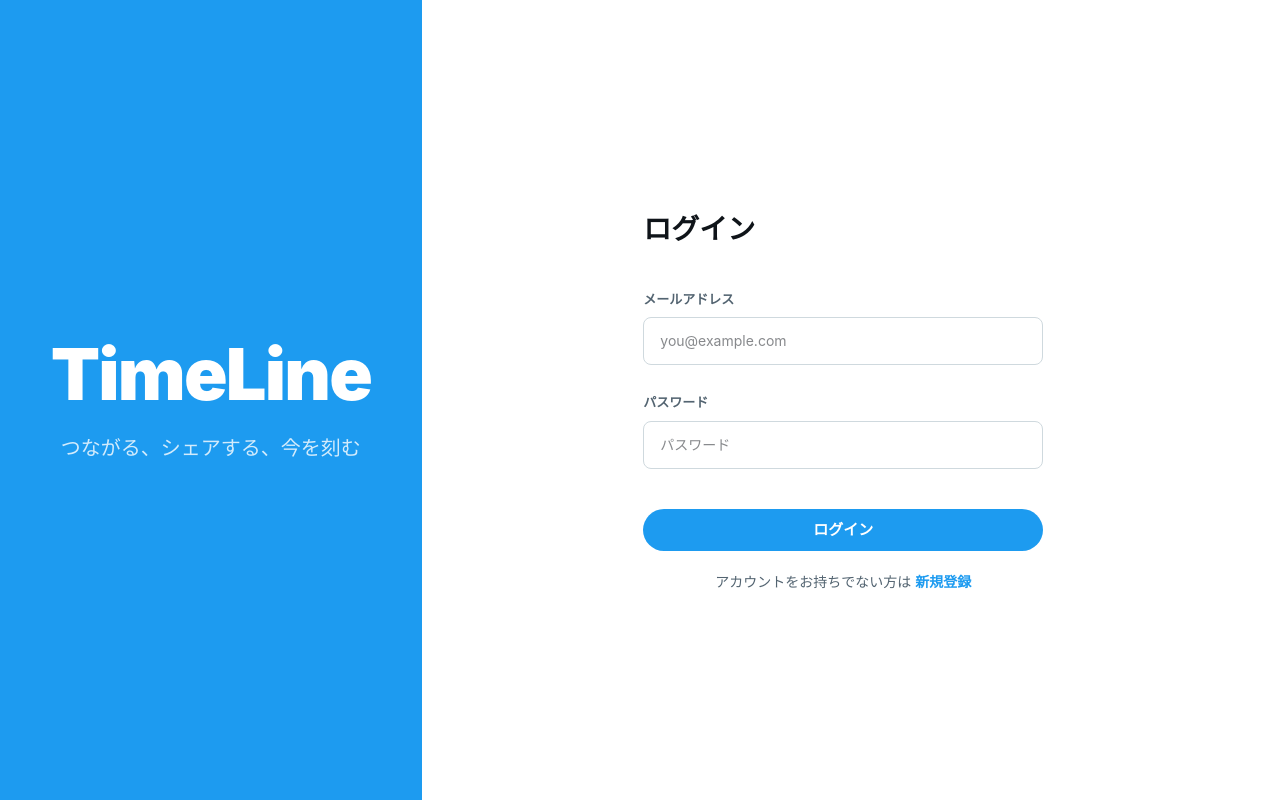
LoginPage › 401エラー時に認証エラーメッセージが表示される
The image size is (1280, 800).
Step 1. Type "alice@example.com" into the field labelled "メールアドレス" → (843, 341), box [643, 317, 1043, 365]
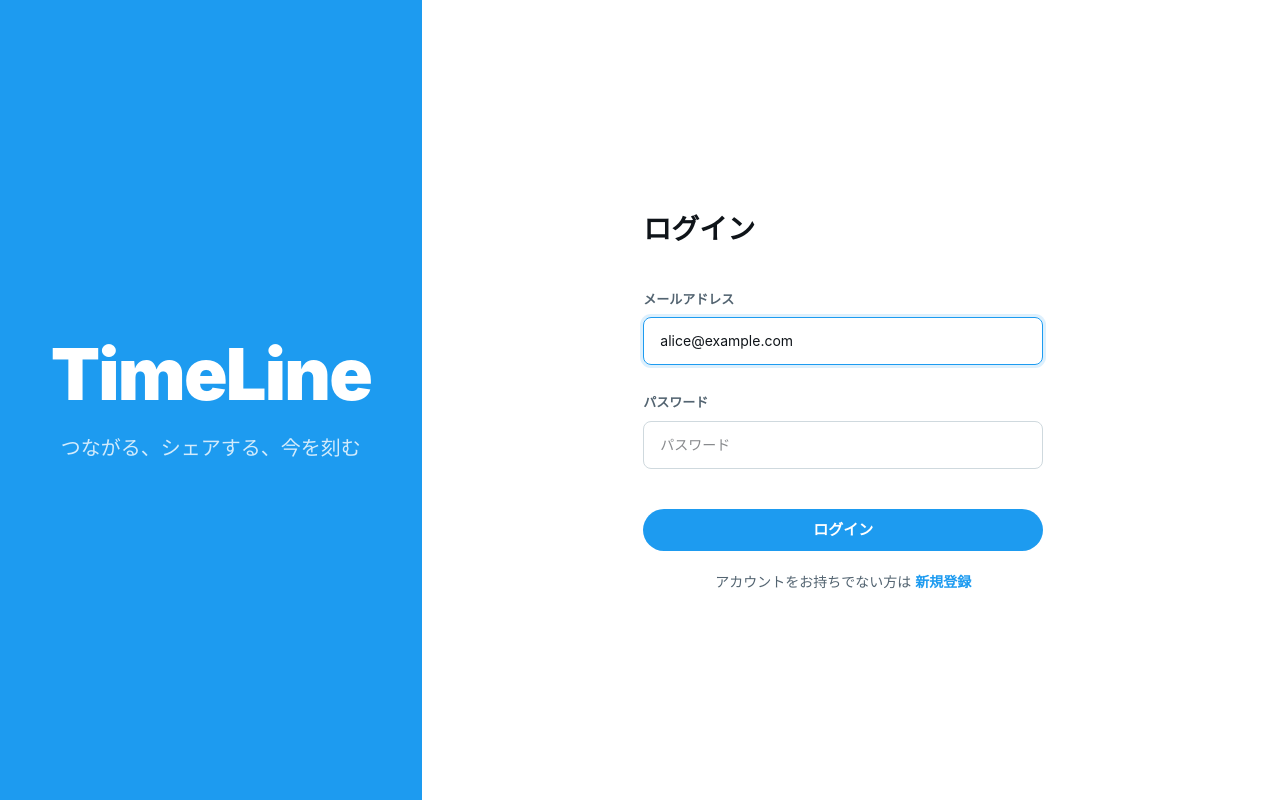
Step 2. Type "wrongpass" into the password field labelled "パスワード" → (843, 445), box [643, 421, 1043, 469]
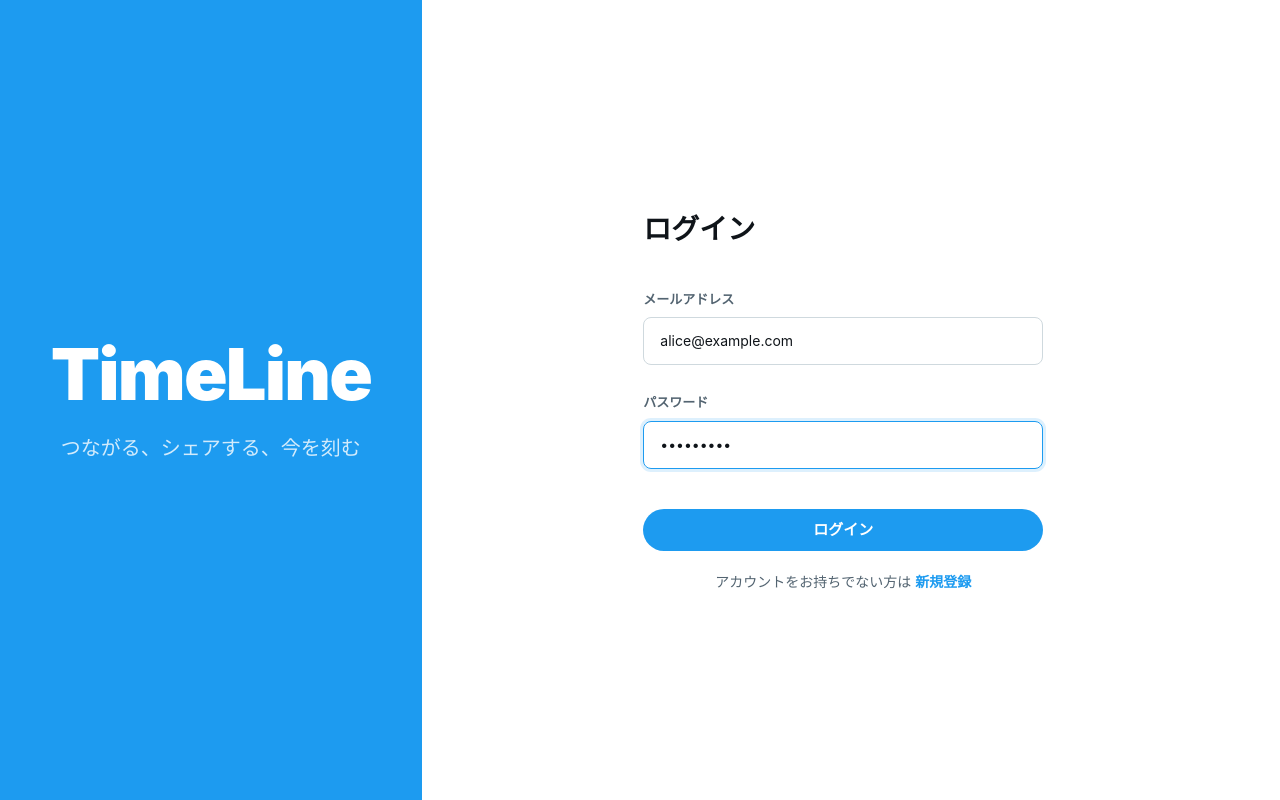
Step 3. Click the button "ログイン" → (843, 530), box [643, 509, 1043, 551]
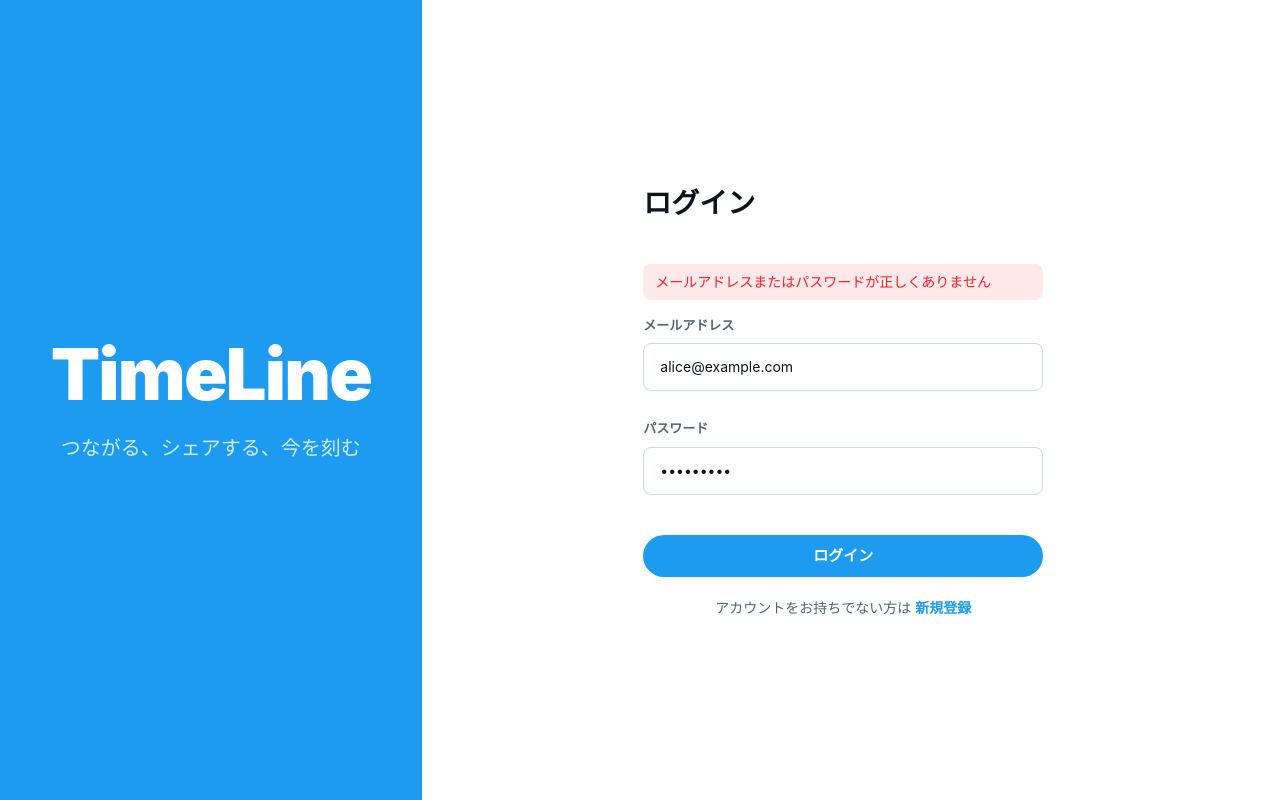
Expected: the text "メールアドレスまたはパスワードが正しくありません" is shown, [643, 264, 1043, 300]
